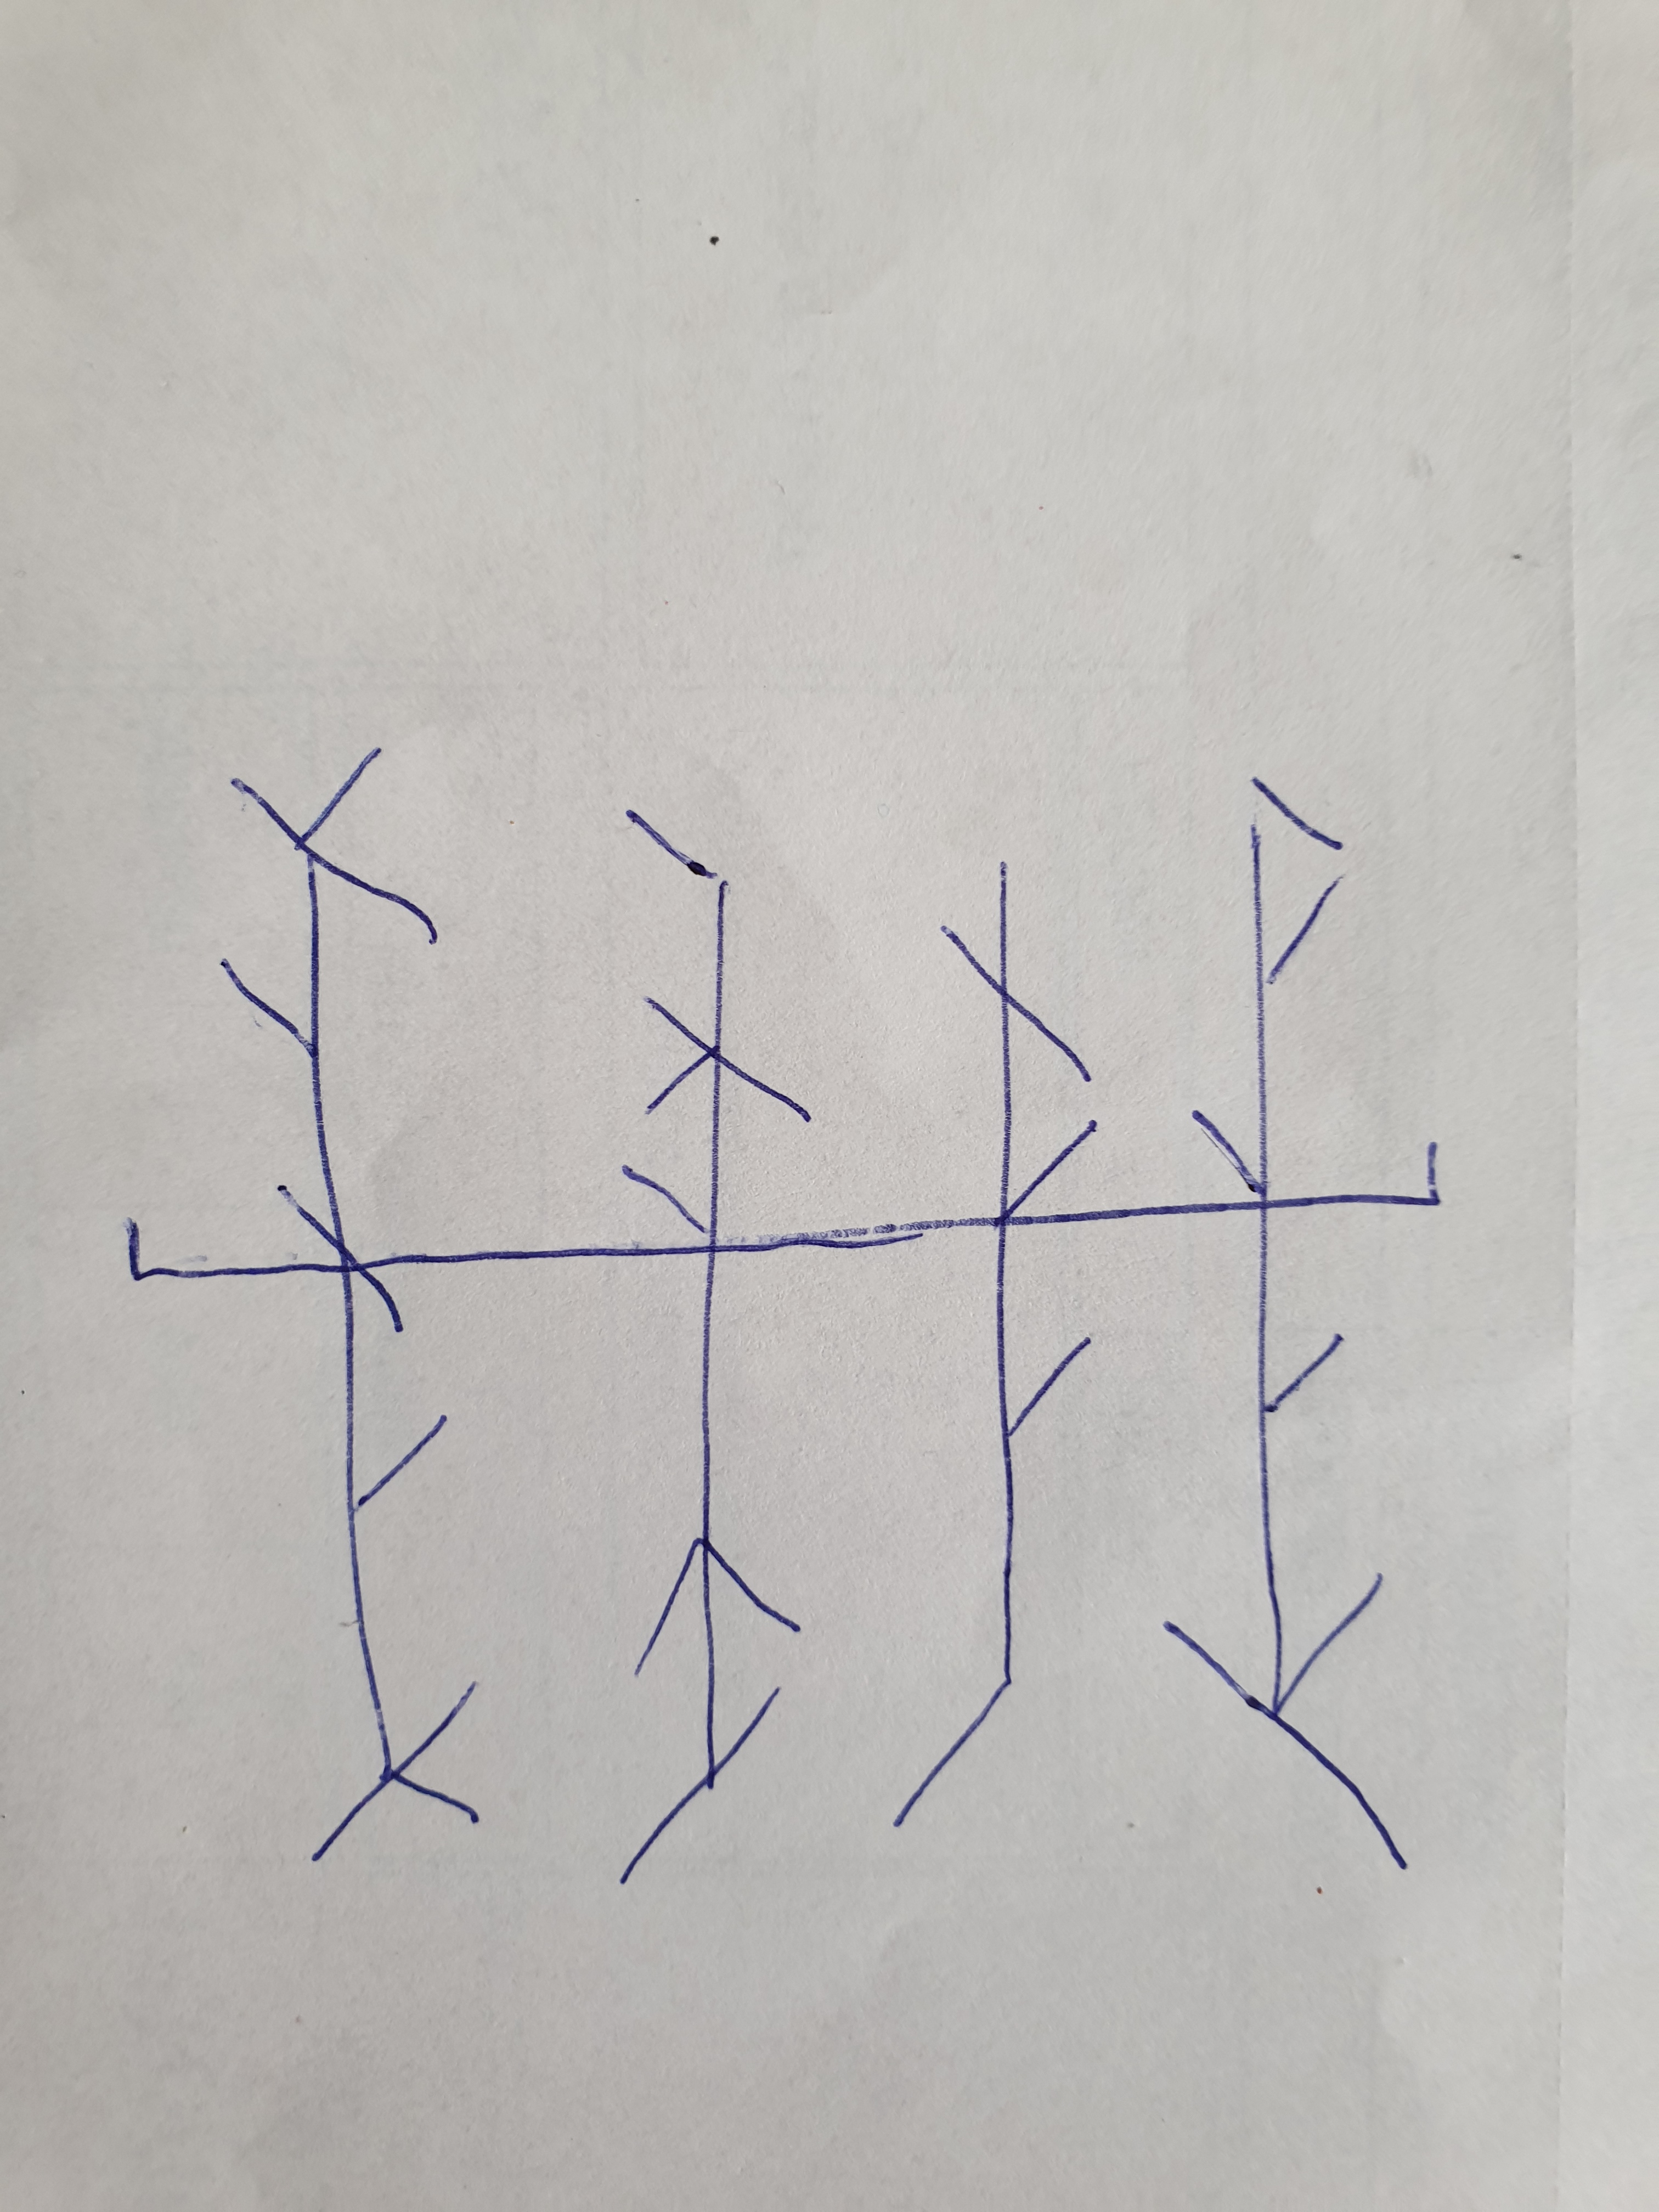Bar: (218, 745, 481, 1865), (1164, 777, 1408, 1871), (624, 808, 812, 1881), (892, 859, 1100, 1827)
Barcode: (125, 742, 1441, 1881)
End: (1270, 1141, 1438, 1207)
Start: (124, 1214, 289, 1285)
